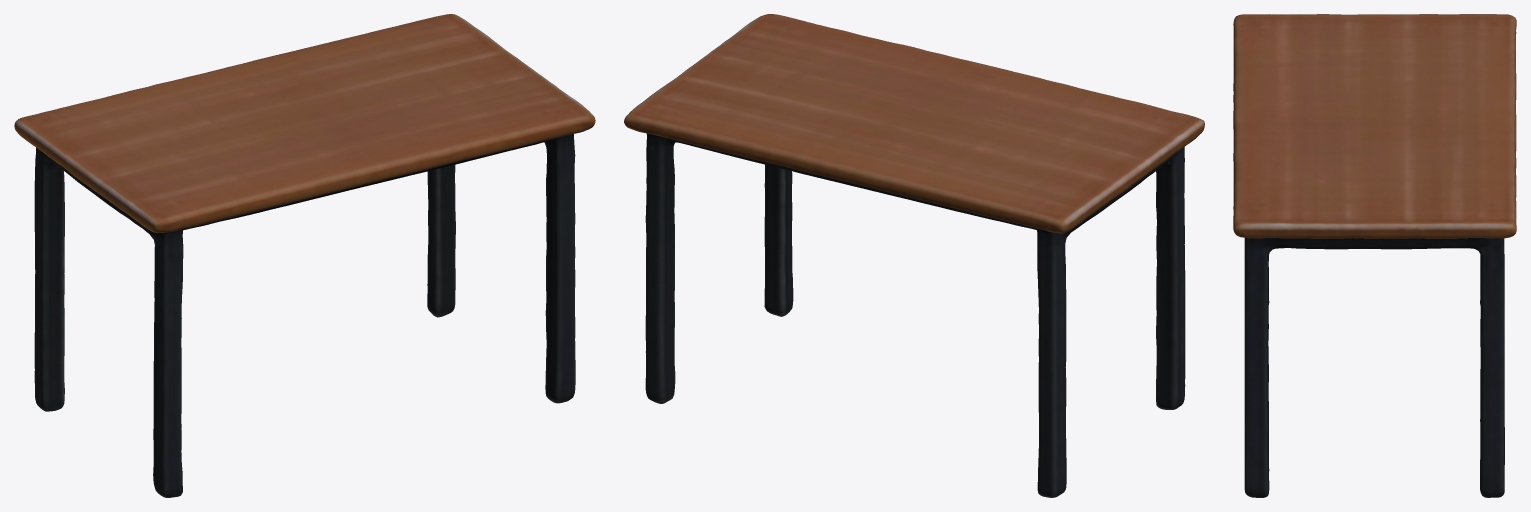
Rendered from Table.fbx.
3 renders of one model, left to right at view 1: azimuth 30°, elevation 25°; view 2: azimuth 150°, elevation 25°; view 3: azimuth 270°, elevation 25°, orthographic.
Visible parts, largest first — view 1: mesh; view 2: mesh; view 3: mesh.
Part boxes in pixels (x1,y1,x2,y2): mesh: (14, 14, 595, 497); mesh: (624, 14, 1204, 497); mesh: (1233, 14, 1516, 497).
Size of the model in its own units: 99.85 by 62.38 by 56.1.
